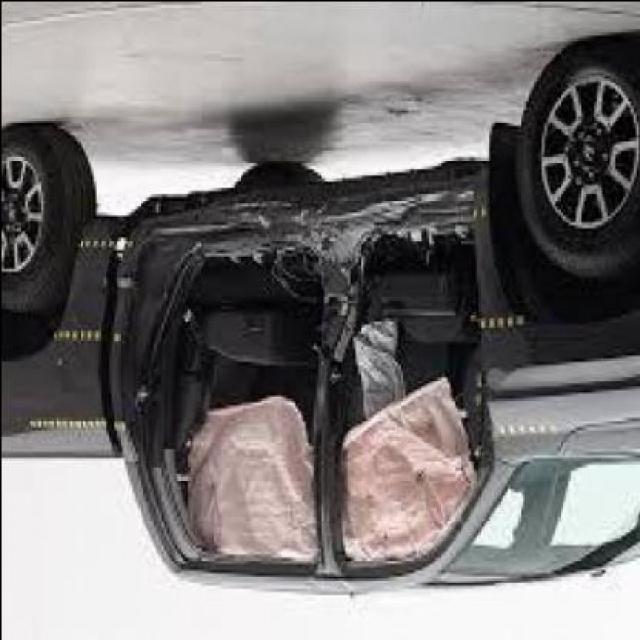damage: (111, 171, 501, 583)
